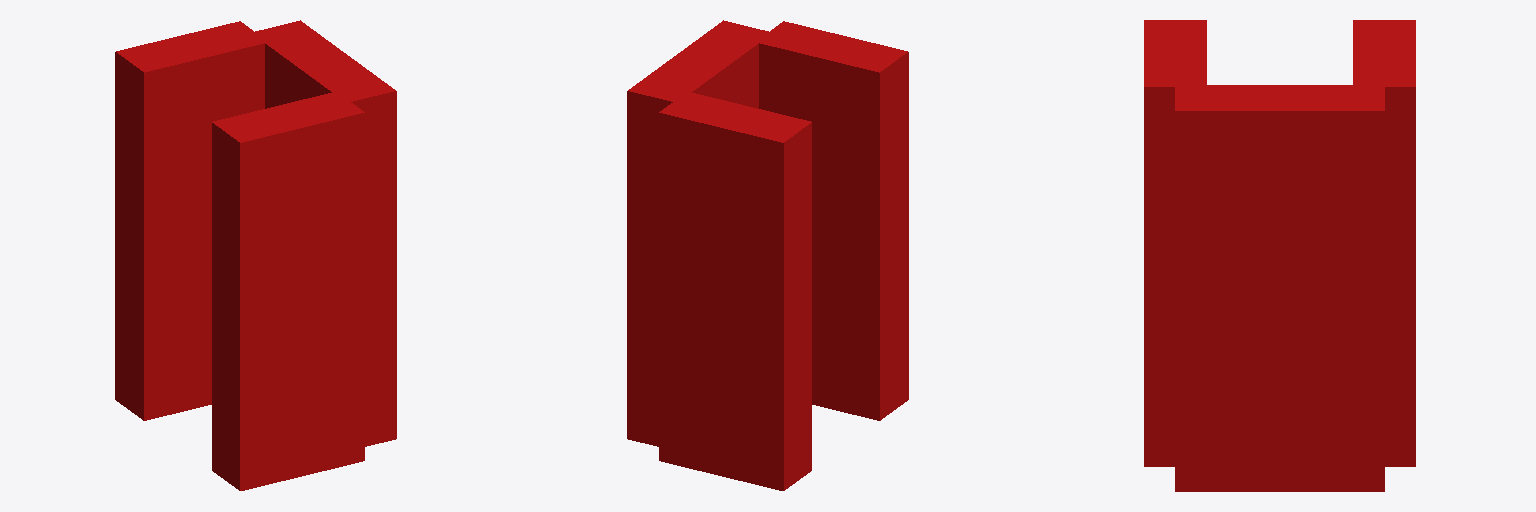
URDF robot description (u_obstacle):
<?xml version="1.0" ?>
<robot name="u_obstacle">
  <link name="world"/>

  <link name="u_obstacle_link">
    <inertial>
      <mass value="1.0"/>
      <origin xyz="0 0 0" rpy="0 0 0"/>
      <inertia ixx="0.01" ixy="0.0" ixz="0.0" iyy="0.01" iyz="0.0" izz="0.01"/>
    </inertial>
    <!-- Visual - Back Wall -->
    <visual>
      <origin xyz="0.35 0.0 0.2" rpy="0 0 0"/>
      <geometry>
        <box size="0.06 0.2 0.4"/>
      </geometry>
      <material name="red">
        <color rgba="0.8 0.1 0.1 0.6"/>
      </material>
    </visual>
    <!-- Visual - Left Arm -->
    <visual>
      <origin xyz="0.25 0.1 0.2" rpy="0 0 0"/>
      <geometry>
        <box size="0.15 0.06 0.4"/>
      </geometry>
      <material name="red">
        <color rgba="0.8 0.1 0.1 0.6"/>
      </material>
    </visual>
    <!-- Visual - Right Arm -->
    <visual>
      <origin xyz="0.25 -0.1 0.2" rpy="0 0 0"/>
      <geometry>
        <box size="0.15 0.06 0.4"/>
      </geometry>
      <material name="red">
        <color rgba="0.8 0.1 0.1 0.6"/>
      </material>
    </visual>

    <!-- Collisions -->
    <collision>
      <origin xyz="0.35 0.0 0.2" rpy="0 0 0"/>
      <geometry>
        <box size="0.06 0.2 0.4"/>
      </geometry>
    </collision>
    <collision>
      <origin xyz="0.25 0.1 0.2" rpy="0 0 0"/>
      <geometry>
        <box size="0.15 0.06 0.4"/>
      </geometry>
    </collision>
    <collision>
      <origin xyz="0.25 -0.1 0.2" rpy="0 0 0"/>
      <geometry>
        <box size="0.15 0.06 0.4"/>
      </geometry>
    </collision>
  </link>

  <joint name="u_obstacle_joint" type="fixed">
    <parent link="world"/>
    <child link="u_obstacle_link"/>
  </joint>
</robot>

--- What the picture shows (computed from the rendered views, not written in the file) ---
The picture shows the robot from 3 angles, left to right: view 1: azimuth 30°, elevation 25°; view 2: azimuth 150°, elevation 25°; view 3: azimuth 270°, elevation 25°; orthographic projection.
Model u_obstacle with 2 links and 1 joints (1 fixed), rooted at world, posed all joints at 0.
Visible links, largest first — view 1: u_obstacle_link; view 2: u_obstacle_link; view 3: u_obstacle_link.
Link boxes in pixels (x1=…): u_obstacle_link: x1=115, y1=20, x2=396, y2=490; u_obstacle_link: x1=627, y1=20, x2=908, y2=490; u_obstacle_link: x1=1144, y1=20, x2=1415, y2=491.
Bounding box of the posed robot: 0.205 × 0.26 × 0.4 m (x, y, z).
Geometry: primitives only (box / cylinder / sphere), no mesh files.
